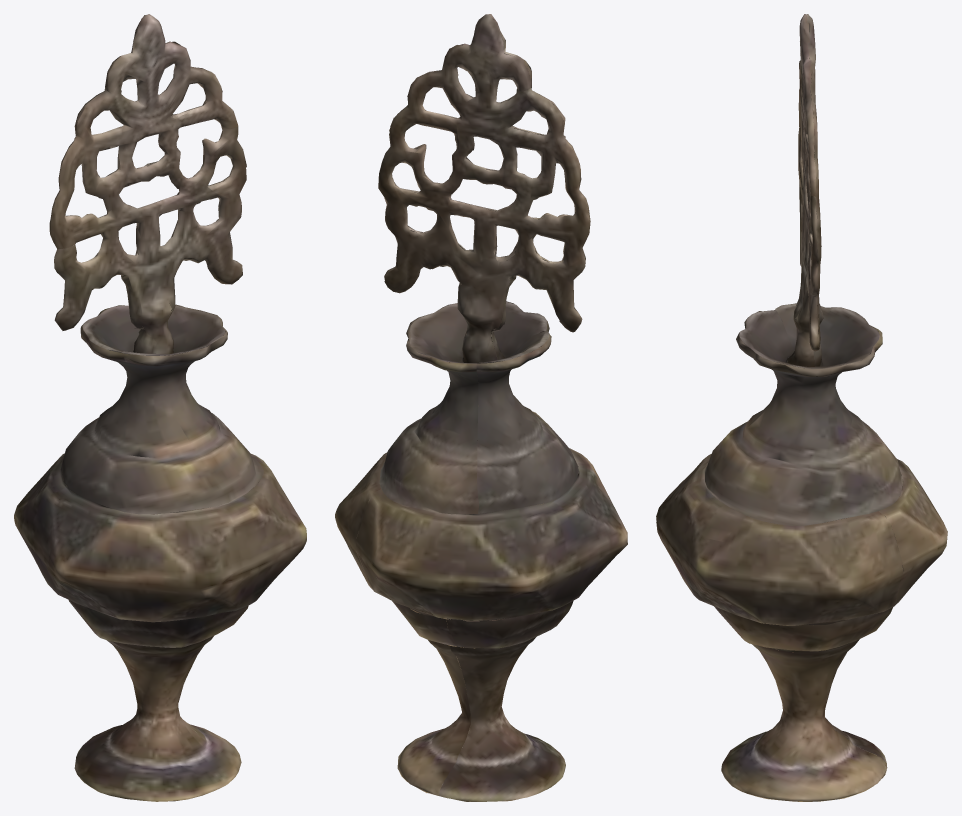
File: obj_oriental_perfume_bottle.glb
The picture shows the model from 3 angles, left to right: view 1: azimuth 30°, elevation 25°; view 2: azimuth 150°, elevation 25°; view 3: azimuth 270°, elevation 25°; orthographic projection.
Parts seen in each view (by area): view 1: Object_2; view 2: Object_2; view 3: Object_2.
Boxes of the visible parts, <box> form: Object_2: <box>14,14,306,801</box>; Object_2: <box>335,14,627,801</box>; Object_2: <box>656,14,947,801</box>.
Size of the model in its own units: 0.0546 by 0.1601 by 0.0562.
Materials: 1 (1 with a texture image).
